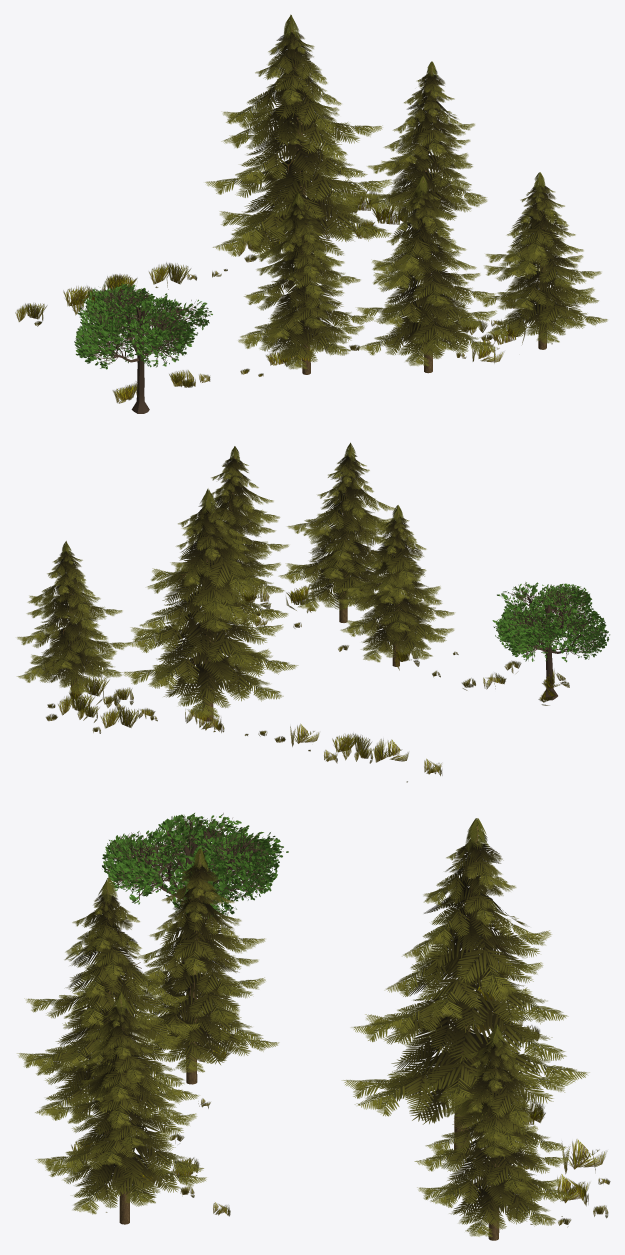
The picture shows the model from 3 angles, top to bottom: view 1: azimuth 30°, elevation 25°; view 2: azimuth 150°, elevation 25°; view 3: azimuth 270°, elevation 25°; orthographic projection. The views are drawn at different scales.
Parts seen in each view (by area): view 1: Low Poly Stylized 2D Grass.1471; view 2: Low Poly Stylized 2D Grass.1471; view 3: Low Poly Stylized 2D Grass.1471.
Boxes of the visible parts, x1,y1,x2,y2 form: Low Poly Stylized 2D Grass.1471: (15,14,607,413); Low Poly Stylized 2D Grass.1471: (17,442,610,782); Low Poly Stylized 2D Grass.1471: (17,813,610,1240).
Size of the model in its own units: 28.53 by 13.55 by 21.95.
Materials: 5 (4 with a texture image).
